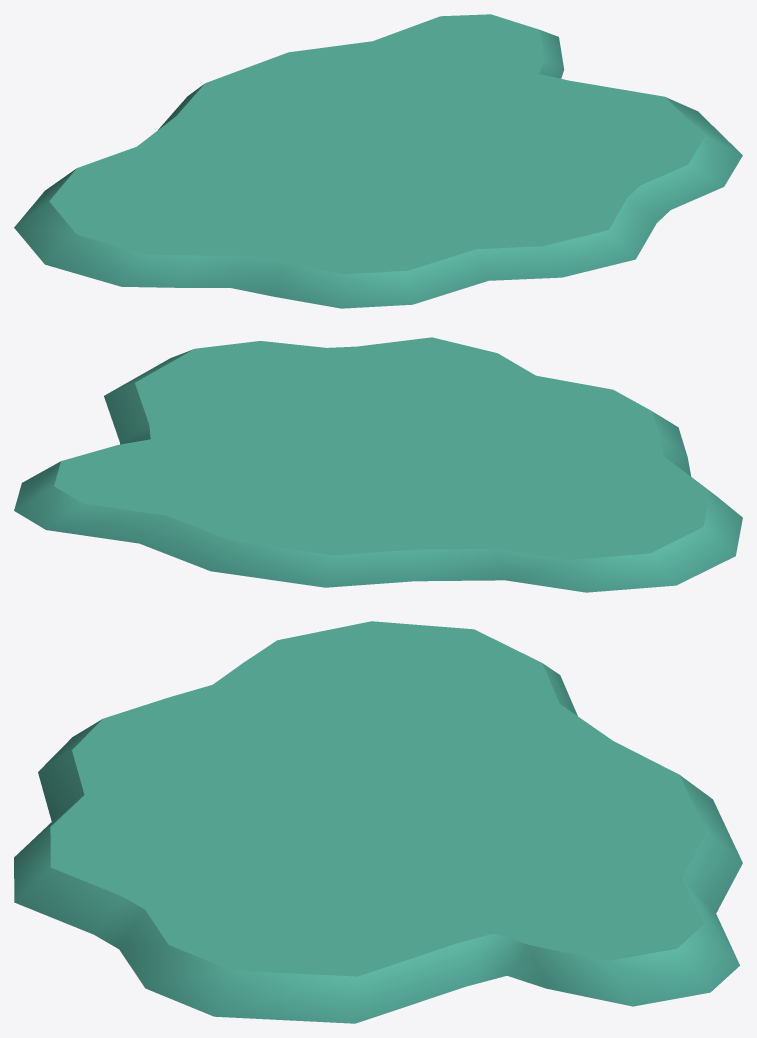
Rendered from patch-sand.fbx.
The picture shows the model from 3 angles, top to bottom: view 1: azimuth 30°, elevation 25°; view 2: azimuth 150°, elevation 25°; view 3: azimuth 270°, elevation 25°; orthographic projection. The views are drawn at different scales.
Parts seen in each view (by area): view 1: patch-sand; view 2: patch-sand; view 3: patch-sand.
Boxes of the visible parts, x1,y1,x2,y2 form: patch-sand: (14,14,742,308); patch-sand: (14,337,742,592); patch-sand: (14,621,742,1023).
Size of the model in its own units: 774 by 25 by 604.
